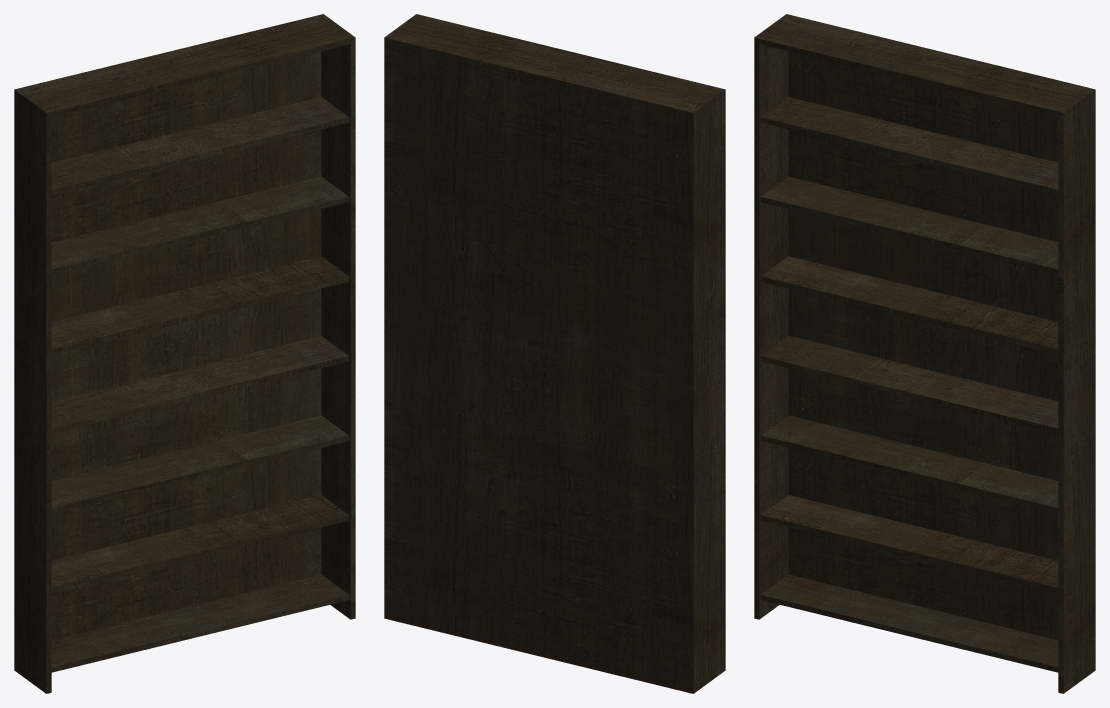
File: shelf_mp_4_4.glb
The picture shows the model from 3 angles, left to right: view 1: azimuth 30°, elevation 25°; view 2: azimuth 150°, elevation 25°; view 3: azimuth 330°, elevation 25°; orthographic projection.
Parts seen in each view (by area): view 1: shelf_mp_4_4; view 2: shelf_mp_4_4; view 3: shelf_mp_4_4.
Boxes of the visible parts, bbox=[...] form: shelf_mp_4_4: bbox=[14, 14, 355, 693]; shelf_mp_4_4: bbox=[384, 14, 725, 693]; shelf_mp_4_4: bbox=[754, 14, 1095, 693].
Bounding box in the file's own units: 1.22 × 2.19 × 0.22.
Materials: 1 (1 with a texture image).
